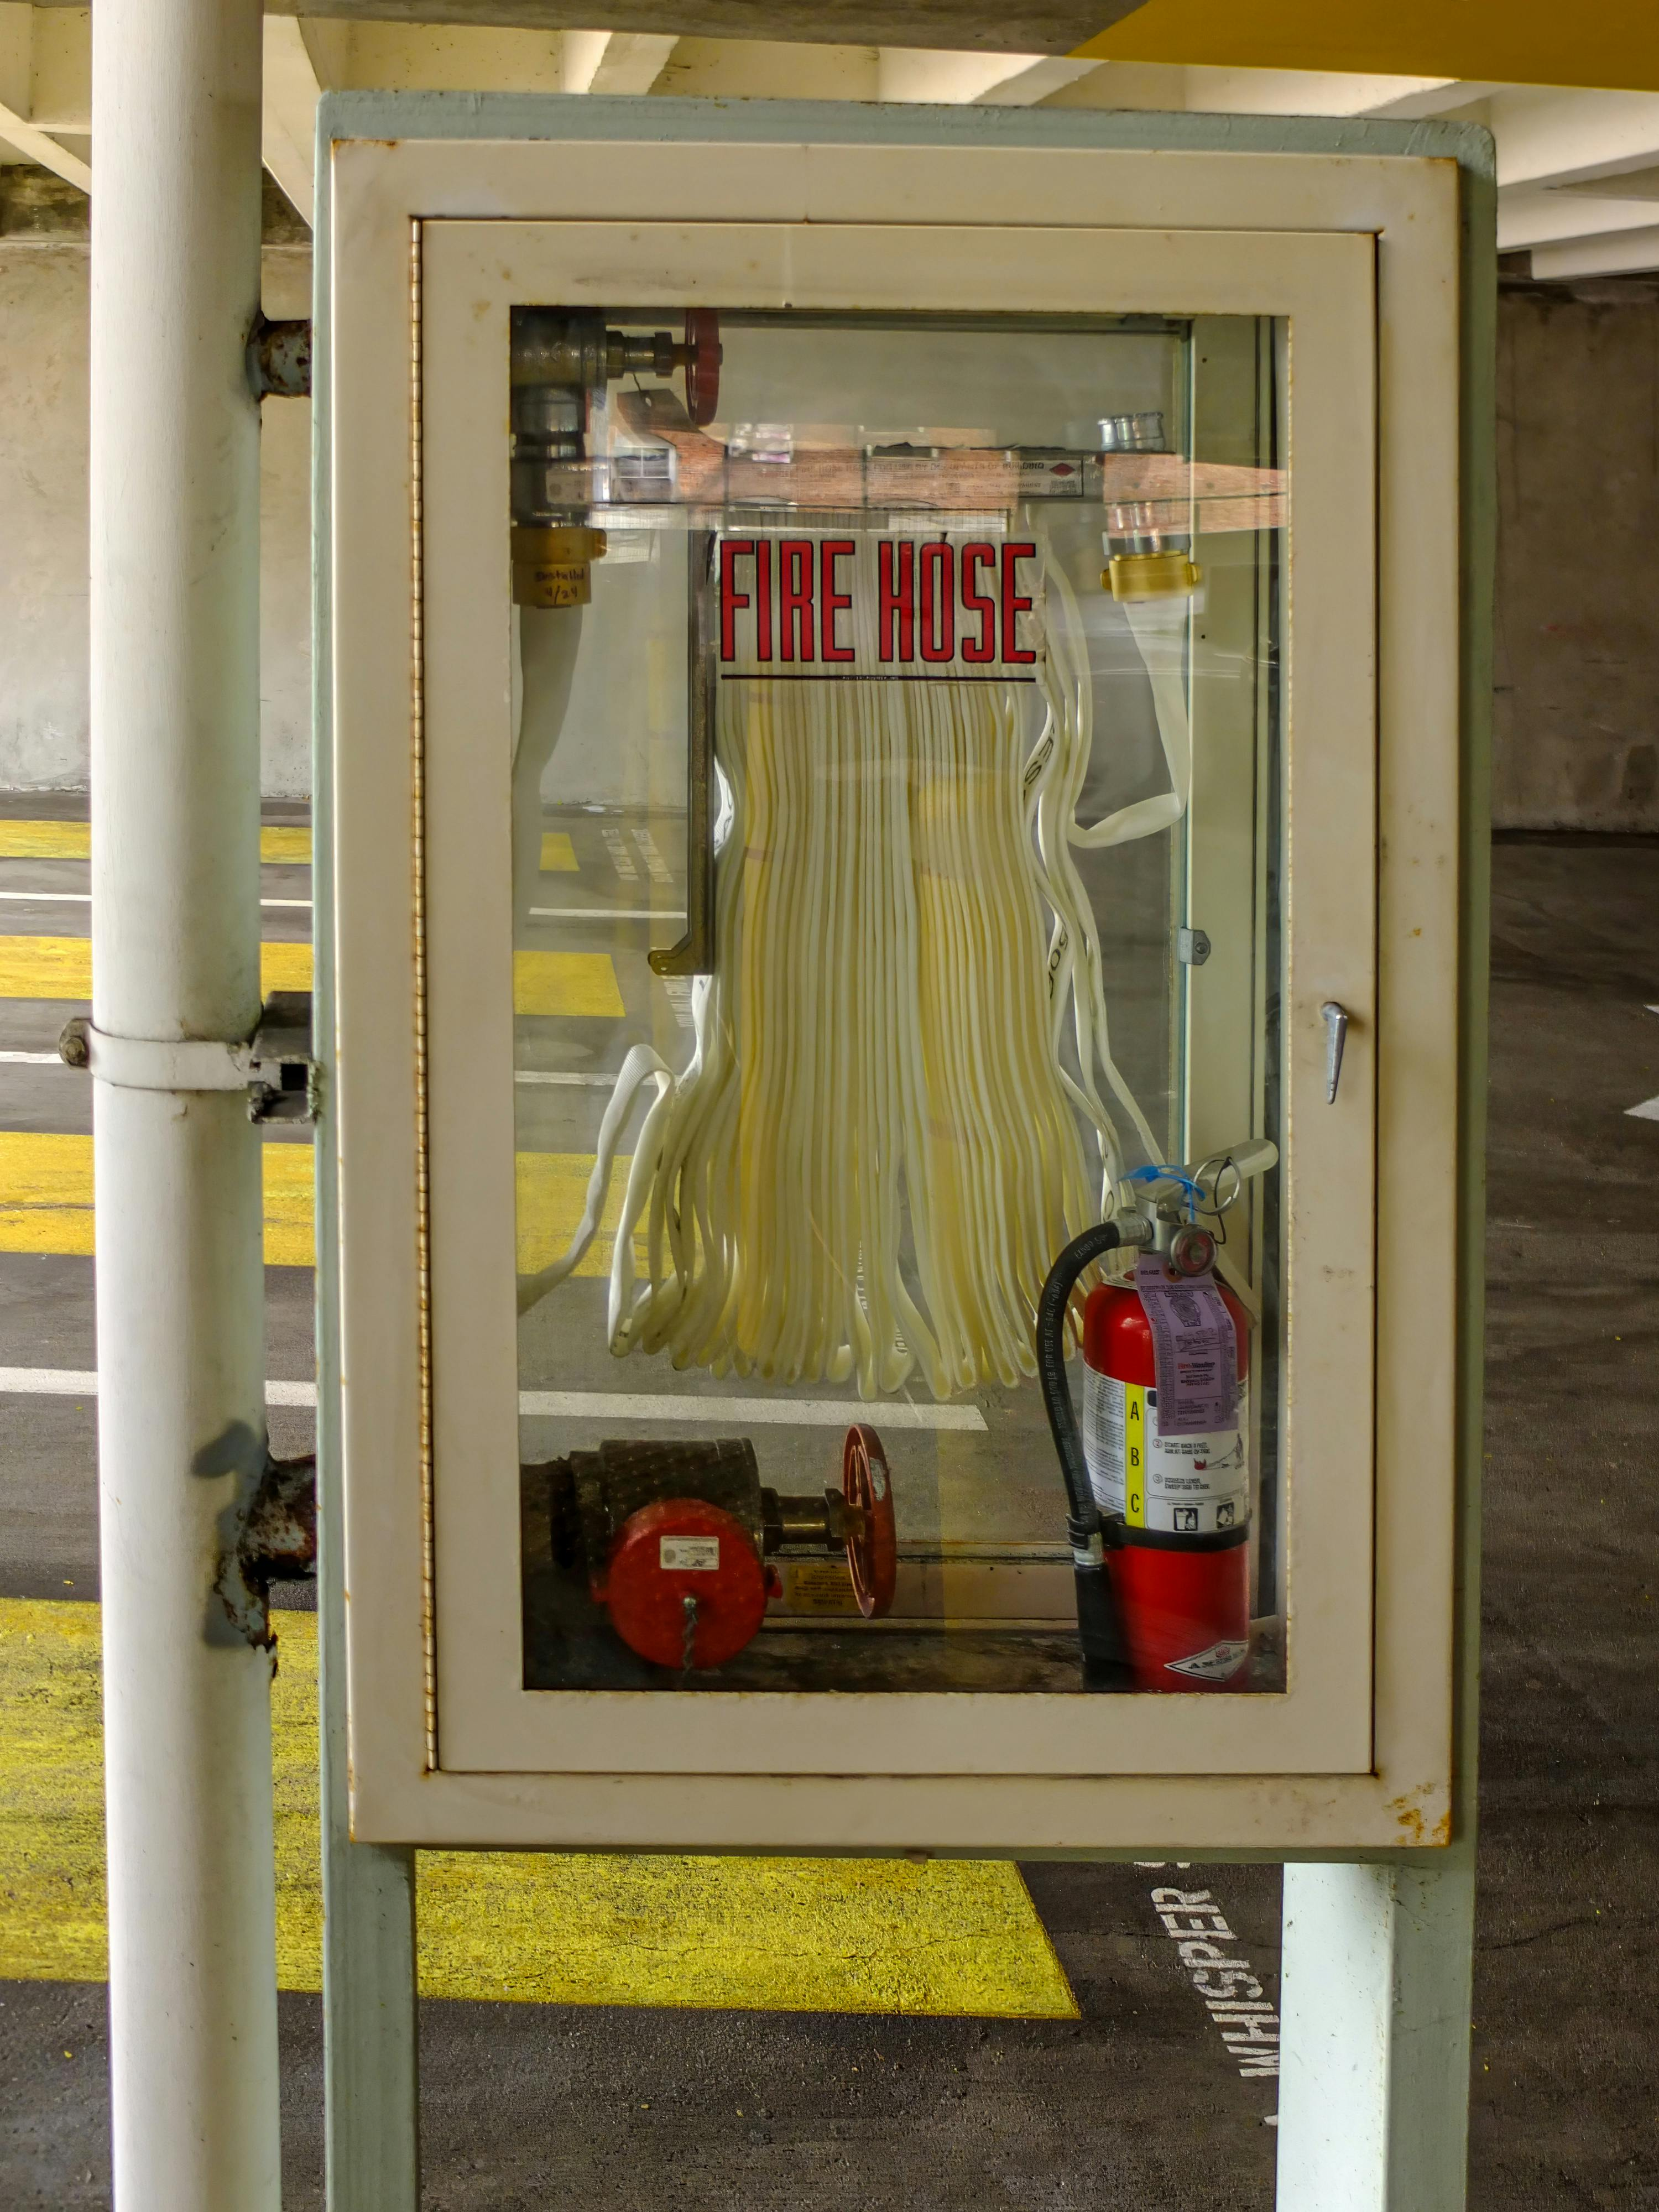extintor: (1025, 1127, 1284, 1689)
